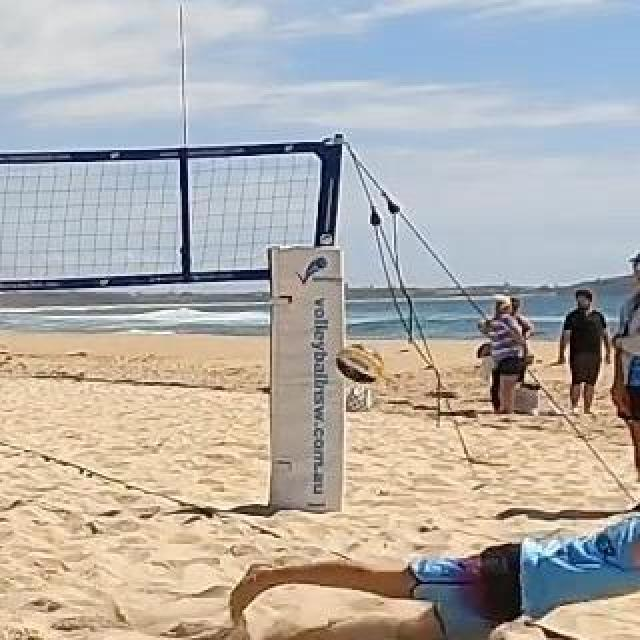volleyball: (336, 343, 382, 385)
